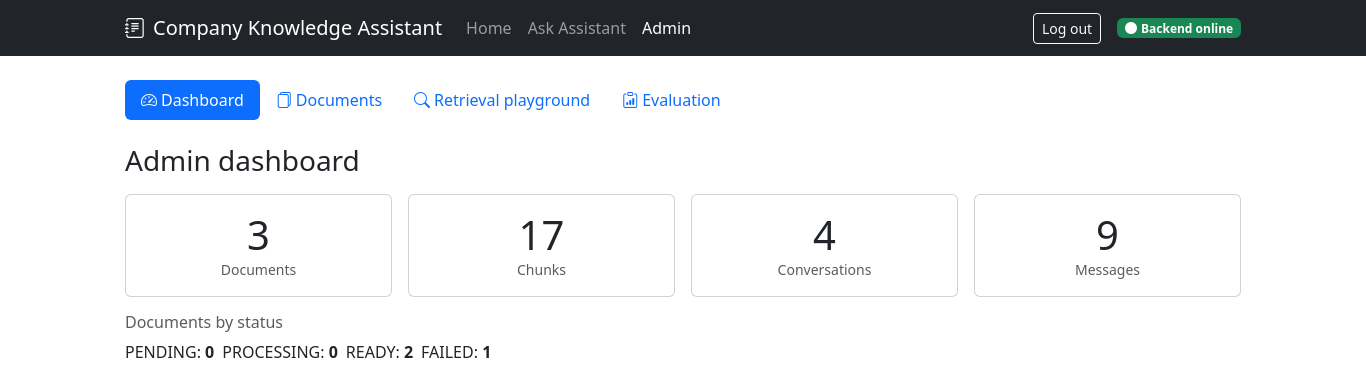
Scenario: admin panel › log out returns to the login page
Check: the heading "Admin dashboard" is shown, box [125,141,360,179]
Click the button "Log out" at (1067, 28), box [1033,12,1101,44]
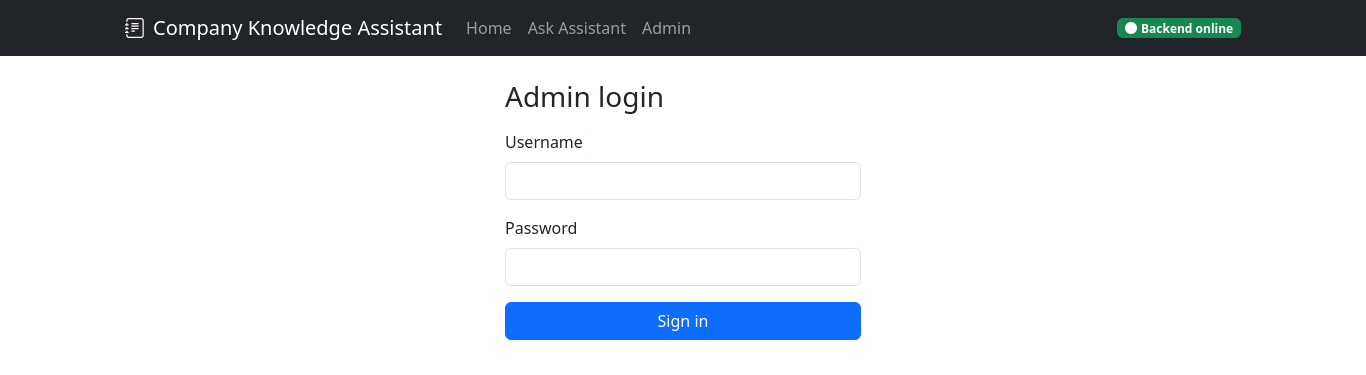
Check: the heading "Admin login" is shown, box [505,77,664,115]
